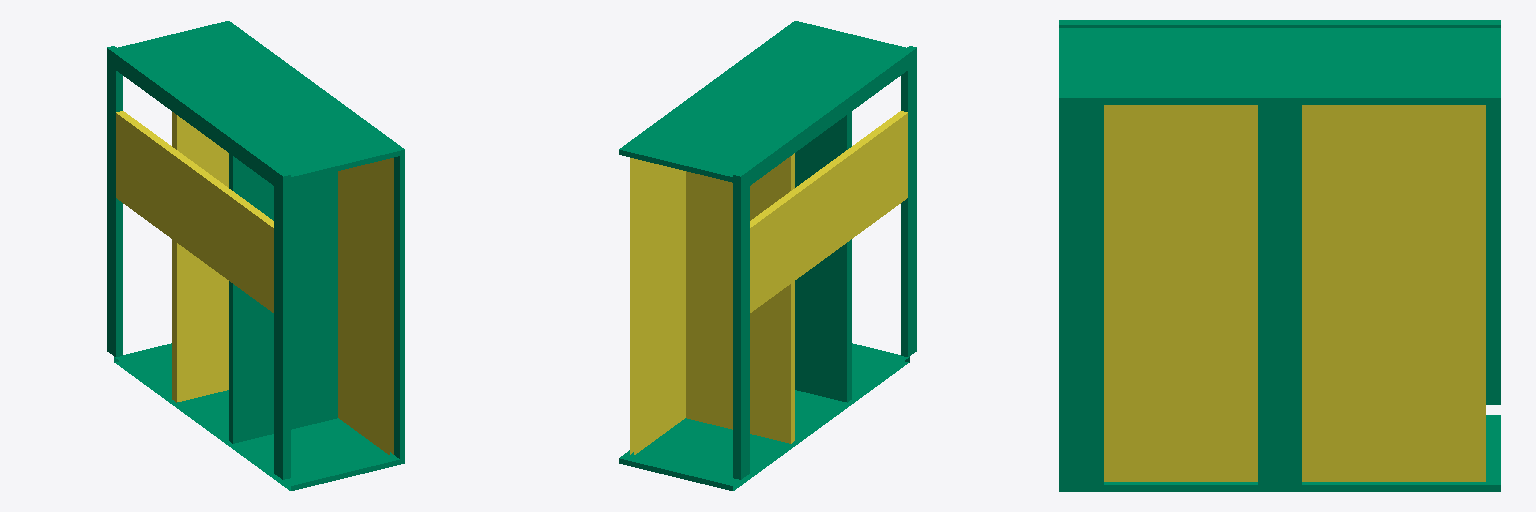
robot.urdf — partnet_2df413de74de82d2fcbd07bde5deede4:
<?xml version="1.0" ?>
<robot name="partnet_2df413de74de82d2fcbd07bde5deede4">
	<link name="base"/>
	<!--门框-->
	<link name="link_0">
		<visual name="outside_frame-1">
			<origin xyz="0 0 0"/>
			<geometry>
				<mesh filename="textured_objs/new-2.obj"/>
			</geometry>
		</visual>
		<visual name="outside_frame-1">
			<origin xyz="0 0 0"/>
			<geometry>
				<mesh filename="textured_objs/original-1.obj"/>
			</geometry>
		</visual>
		<visual name="outside_frame-1">
			<origin xyz="0 0 0"/>
			<geometry>
				<mesh filename="textured_objs/new-5.obj"/>
			</geometry>
		</visual>
		<collision>
			<origin xyz="0 0 0"/>
			<geometry>
				<mesh filename="textured_objs/new-2.obj"/>
			</geometry>
		</collision>
		<collision>
			<origin xyz="0 0 0"/>
			<geometry>
				<mesh filename="textured_objs/original-1.obj"/>
			</geometry>
		</collision>
		<collision>
			<origin xyz="0 0 0"/>
			<geometry>
				<mesh filename="textured_objs/new-5.obj"/>
			</geometry>
		</collision>
	</link>
	<joint name="joint_0" type="fixed">
		<origin rpy="1.570796326794897 0 -1.570796326794897" xyz="0 0 0"/>
		<child link="link_0"/>
		<parent link="base"/>
	</joint>
	<link name="link_1">
		<visual name="surface_board-12">
			<origin xyz="0.3432525537649009 -0.828824 0.004683688059689217"/>
			<geometry>
				<mesh filename="textured_objs/new-3.obj"/>
			</geometry>
		</visual>
		<visual name="surface_board-12">
			<origin xyz="0.3432525537649009 -0.828824 0.004683688059689217"/>
			<geometry>
				<mesh filename="textured_objs/new-4.obj"/>
			</geometry>
		</visual>
		<visual name="surface_board-12">
			<origin xyz="0.3432525537649009 -0.828824 0.004683688059689217"/>
			<geometry>
				<mesh filename="textured_objs/new-0.obj"/>
			</geometry>
		</visual>
		<visual name="surface_board-12">
			<origin xyz="0.3432525537649009 -0.828824 0.004683688059689217"/>
			<geometry>
				<mesh filename="textured_objs/new-1.obj"/>
			</geometry>
		</visual>
		<visual name="fixed_part-10">
			<origin xyz="0.3432525537649009 -0.828824 0.004683688059689217"/>
			<geometry>
				<mesh filename="textured_objs/original-17.obj"/>
			</geometry>
		</visual>
		<visual name="fixed_part-10">
			<origin xyz="0.3432525537649009 -0.828824 0.004683688059689217"/>
			<geometry>
				<mesh filename="textured_objs/original-16.obj"/>
			</geometry>
		</visual>
		<visual name="fixed_part-10">
			<origin xyz="0.3432525537649009 -0.828824 0.004683688059689217"/>
			<geometry>
				<mesh filename="textured_objs/original-21.obj"/>
			</geometry>
		</visual>
		<visual name="other_leaf-14">
			<origin xyz="0.3432525537649009 -0.828824 0.004683688059689217"/>
			<geometry>
				<mesh filename="textured_objs/original-20.obj"/>
			</geometry>
		</visual>
		<visual name="other_leaf-14">
			<origin xyz="0.3432525537649009 -0.828824 0.004683688059689217"/>
			<geometry>
				<mesh filename="textured_objs/original-22.obj"/>
			</geometry>
		</visual>

		<visual name="fixed_part-8">
			<origin xyz="0.3432525537649009 -0.828824 0.004683688059689217"/>
			<geometry>
				<mesh filename="textured_objs/original-6.obj"/>
			</geometry>
		</visual>
		<visual name="fixed_part-8">
			<origin xyz="0.3432525537649009 -0.828824 0.004683688059689217"/>
			<geometry>
				<mesh filename="textured_objs/original-5.obj"/>
			</geometry>
		</visual>
		<visual name="fixed_part-8">
			<origin xyz="0.3432525537649009 -0.828824 0.004683688059689217"/>
			<geometry>
				<mesh filename="textured_objs/original-10.obj"/>
			</geometry>
		</visual>
		<visual name="other_leaf-16">
			<origin xyz="0.3432525537649009 -0.828824 0.004683688059689217"/>
			<geometry>
				<mesh filename="textured_objs/original-11.obj"/>
			</geometry>
		</visual>
		<visual name="other_leaf-16">
			<origin xyz="0.3432525537649009 -0.828824 0.004683688059689217"/>
			<geometry>
				<mesh filename="textured_objs/original-9.obj"/>
			</geometry>
		</visual>
		<collision>
			<origin xyz="0.3432525537649009 -0.828824 0.004683688059689217"/>
			<geometry>
				<mesh filename="textured_objs/new-3.obj"/>
			</geometry>
		</collision>
		<collision>
			<origin xyz="0.3432525537649009 -0.828824 0.004683688059689217"/>
			<geometry>
				<mesh filename="textured_objs/new-4.obj"/>
			</geometry>
		</collision>
		<collision>
			<origin xyz="0.3432525537649009 -0.828824 0.004683688059689217"/>
			<geometry>
				<mesh filename="textured_objs/new-0.obj"/>
			</geometry>
		</collision>
		<collision>
			<origin xyz="0.3432525537649009 -0.828824 0.004683688059689217"/>
			<geometry>
				<mesh filename="textured_objs/new-1.obj"/>
			</geometry>
		</collision>
		<collision>
			<origin xyz="0.3432525537649009 -0.828824 0.004683688059689217"/>
			<geometry>
				<mesh filename="textured_objs/original-17.obj"/>
			</geometry>
		</collision>
		<collision>
			<origin xyz="0.3432525537649009 -0.828824 0.004683688059689217"/>
			<geometry>
				<mesh filename="textured_objs/original-16.obj"/>
			</geometry>
		</collision>
		<collision>
			<origin xyz="0.3432525537649009 -0.828824 0.004683688059689217"/>
			<geometry>
				<mesh filename="textured_objs/original-21.obj"/>
			</geometry>
		</collision>
		<collision>
			<origin xyz="0.3432525537649009 -0.828824 0.004683688059689217"/>
			<geometry>
				<mesh filename="textured_objs/original-20.obj"/>
			</geometry>
		</collision>
		<collision>
			<origin xyz="0.3432525537649009 -0.828824 0.004683688059689217"/>
			<geometry>
				<mesh filename="textured_objs/original-22.obj"/>
			</geometry>
		</collision>
		<collision>
			<origin xyz="0.3432525537649009 -0.828824 0.004683688059689217"/>
			<geometry>
				<mesh filename="textured_objs/original-6.obj"/>
			</geometry>
		</collision>
		<collision>
			<origin xyz="0.3432525537649009 -0.828824 0.004683688059689217"/>
			<geometry>
				<mesh filename="textured_objs/original-5.obj"/>
			</geometry>
		</collision>
		<collision>
			<origin xyz="0.3432525537649009 -0.828824 0.004683688059689217"/>
			<geometry>
				<mesh filename="textured_objs/original-10.obj"/>
			</geometry>
		</collision>
		<collision>
			<origin xyz="0.3432525537649009 -0.828824 0.004683688059689217"/>
			<geometry>
				<mesh filename="textured_objs/original-11.obj"/>
			</geometry>
		</collision>
		<collision>
			<origin xyz="0.3432525537649009 -0.828824 0.004683688059689217"/>
			<geometry>
				<mesh filename="textured_objs/original-9.obj"/>
			</geometry>
		</collision>
	</link>
	<joint name="joint_1" type="revolute">
		<origin xyz="-0.3432525537649009 0.828824 -0.004683688059689217"/>
		<axis xyz="0 -1 0"/>
		<child link="link_1"/>
		<parent link="link_0"/>
		<limit lower="-1.5707963267948966" upper="1.5707963267948966"/>
	</joint>
	<link name="link_2">
		<visual name="movable_part-11">
			<origin xyz="-0.27102619774442194 0.04494619130548938 -0.053442000000000434"/>
			<geometry>
				<mesh filename="textured_objs/original-19.obj"/>
			</geometry>
		</visual>
		<visual name="movable_part-11">
			<origin xyz="-0.27102619774442194 0.04494619130548938 -0.053442000000000434"/>
			<geometry>
				<mesh filename="textured_objs/original-18.obj"/>
			</geometry>
		</visual>
		<visual name="movable_part-9">
			<origin xyz="-0.27102619774442194 0.04494619130548938 -0.053442000000000434"/>
			<geometry>
				<mesh filename="textured_objs/original-7.obj"/>
			</geometry>
		</visual>
		<visual name="movable_part-9">
			<origin xyz="-0.27102619774442194 0.04494619130548938 -0.053442000000000434"/>
			<geometry>
				<mesh filename="textured_objs/original-8.obj"/>
			</geometry>
		</visual>
		<collision>
			<origin xyz="-0.27102619774442194 0.04494619130548938 -0.053442000000000434"/>
			<geometry>
				<mesh filename="textured_objs/original-19.obj"/>
			</geometry>
		</collision>
		<collision>
			<origin xyz="-0.27102619774442194 0.04494619130548938 -0.053442000000000434"/>
			<geometry>
				<mesh filename="textured_objs/original-18.obj"/>
			</geometry>
		</collision>
		<collision>
			<origin xyz="-0.27102619774442194 0.04494619130548938 -0.053442000000000434"/>
			<geometry>
				<mesh filename="textured_objs/original-7.obj"/>
			</geometry>
		</collision>
		<collision>
			<origin xyz="-0.27102619774442194 0.04494619130548938 -0.053442000000000434"/>
			<geometry>
				<mesh filename="textured_objs/original-8.obj"/>
			</geometry>
		</collision>
	</link>
	<joint name="joint_2" type="revolute">
		<origin xyz="0.6142787515093229 -0.8737701913054894 0.05812568805968965"/>
		<axis xyz="0 0 1"/>
		<child link="link_2"/>
		<parent link="link_1"/>
		<limit lower="0" upper="1.04719755"/>
	</joint>
</robot>

--- Facts derived from the render (not from the file) ---
3 views of the same robot in one strip: view 1: azimuth 30°, elevation 25°; view 2: azimuth 150°, elevation 25°; view 3: azimuth 270°, elevation 25° (orthographic).
Model partnet_2df413de74de82d2fcbd07bde5deede4 with 4 links and 3 joints (2 revolute, 1 fixed), rooted at base, posed every joint at zero.
Visible links, largest first — view 1: link_1, link_2; view 2: link_1, link_2; view 3: link_2, link_1.
Link boxes in pixels (box(x1,y1,x2,y2)): link_1: box(107, 21, 404, 490); link_2: box(116, 111, 393, 454); link_1: box(619, 21, 916, 490); link_2: box(630, 111, 907, 454); link_2: box(1104, 105, 1485, 481); link_1: box(1059, 20, 1500, 491).
Size in the robot's own frame: 0.5623 by 1.41 by 1.39 metres.
12 mesh visuals loaded from 21 distinct referenced files (12 OBJ); not drawn: 9 (reference not matched to a file when rendering).
